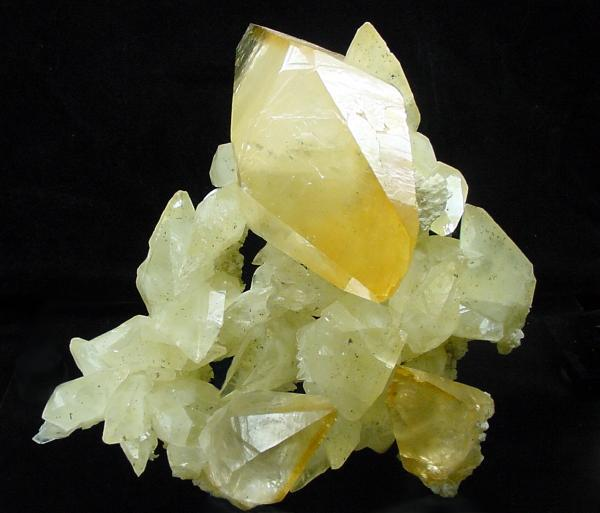calcite: (33, 189, 336, 510), (231, 25, 420, 300), (387, 205, 537, 498), (222, 248, 404, 469), (345, 22, 469, 236)
